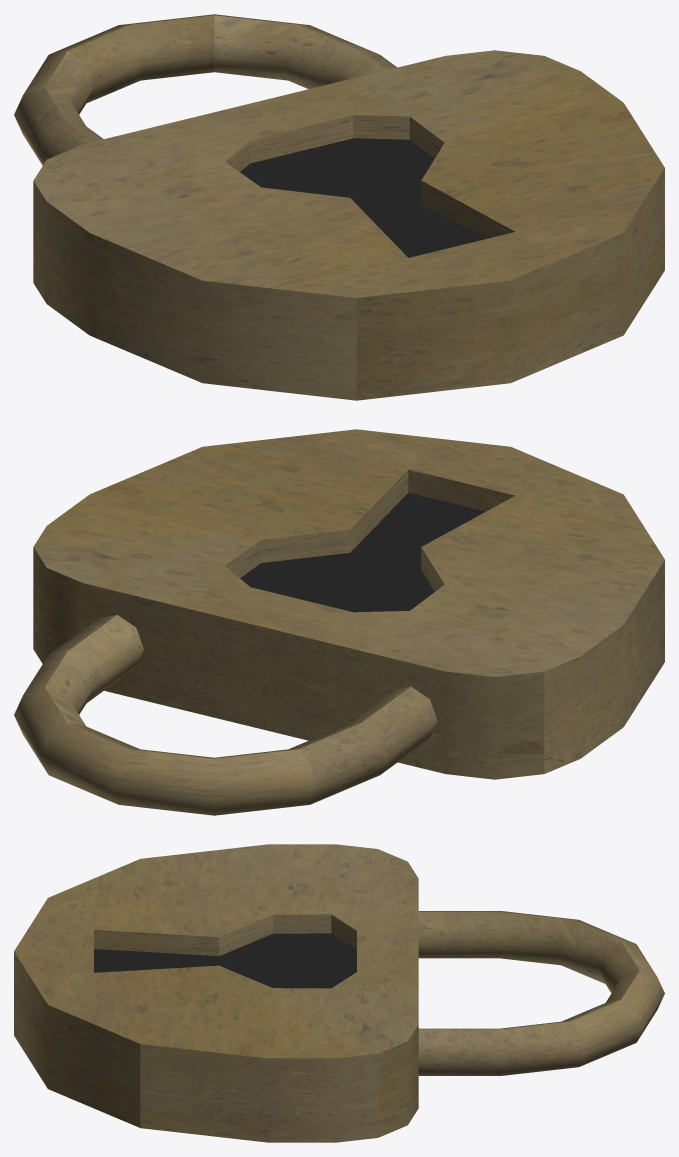
Rendered from Lock.fbx.
3 views of the same model, one above another, from view 1: azimuth 30°, elevation 25°; view 2: azimuth 150°, elevation 25°; view 3: azimuth 270°, elevation 25° (orthographic). The views are drawn at different scales.
Parts seen in each view (by area): view 1: Cylinder; view 2: Cylinder; view 3: Cylinder.
Boxes of the visible parts, x1,y1,x2,y2 form: Cylinder: [14, 14, 664, 400]; Cylinder: [14, 429, 664, 815]; Cylinder: [14, 844, 664, 1142].
Bounding box in the file's own units: 200 × 36.71 × 257.
